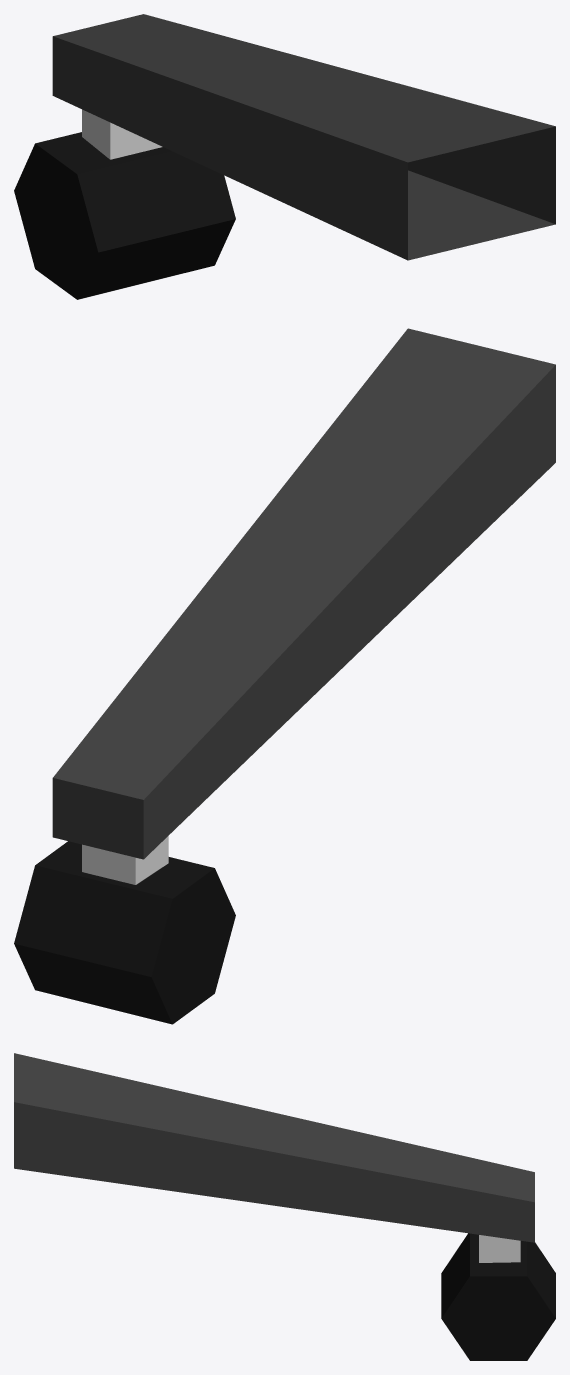
Rendered from Itr_Officechair_Leg_01.FBX.
3 views of the same model, one above another, from view 1: azimuth 30°, elevation 25°; view 2: azimuth 150°, elevation 25°; view 3: azimuth 270°, elevation 25° (orthographic). The views are drawn at different scales.
Visible parts, largest first — view 1: Itr_Officechair_Leg_01; view 2: Itr_Officechair_Leg_01; view 3: Itr_Officechair_Leg_01.
Part boxes in pixels (<box>): Itr_Officechair_Leg_01: <box>14,14,555,299</box>; Itr_Officechair_Leg_01: <box>14,328,555,1024</box>; Itr_Officechair_Leg_01: <box>14,1053,555,1360</box>.
Size of the model in its own units: 2.75 by 6.84 by 12.86.
